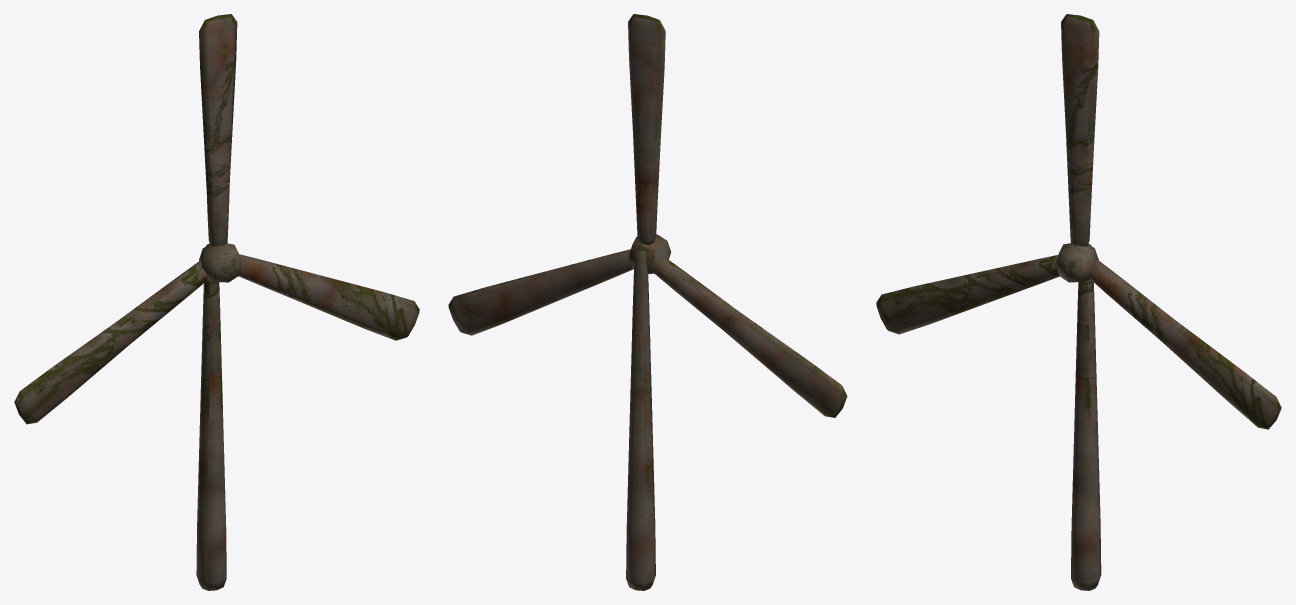
Rendered from WindMill.fbx.
3 renders of one model, left to right at view 1: azimuth 30°, elevation 25°; view 2: azimuth 150°, elevation 25°; view 3: azimuth 330°, elevation 25°, orthographic.
Parts seen in each view (by area): view 1: WindMillFan, WindMillBase; view 2: WindMillFan, WindMillBase; view 3: WindMillFan, WindMillBase.
Boxes of the visible parts, x1,y1,x2,y2 form: WindMillFan: (14, 14, 419, 424); WindMillBase: (196, 243, 226, 590); WindMillFan: (448, 14, 847, 417); WindMillBase: (626, 249, 655, 590); WindMillFan: (876, 14, 1281, 429); WindMillBase: (1071, 243, 1101, 590).
Size of the model in its own units: 17928 by 24354 by 2115.
Materials: 1 (1 with a texture image).
